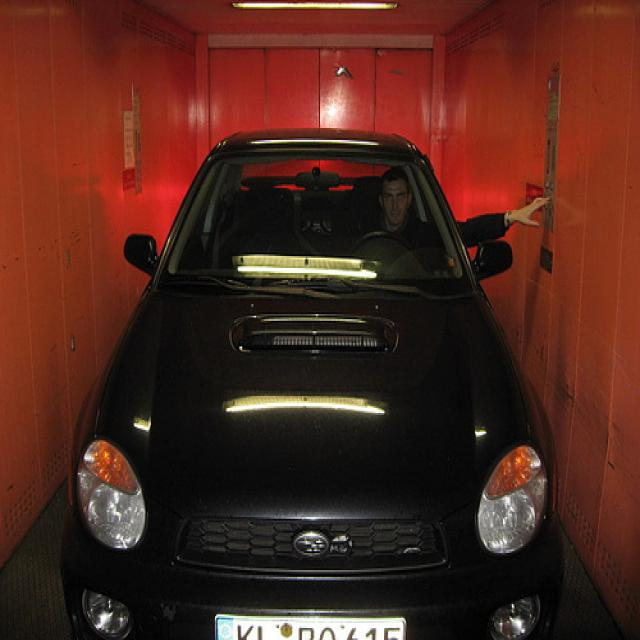Car: (61, 121, 560, 640)
